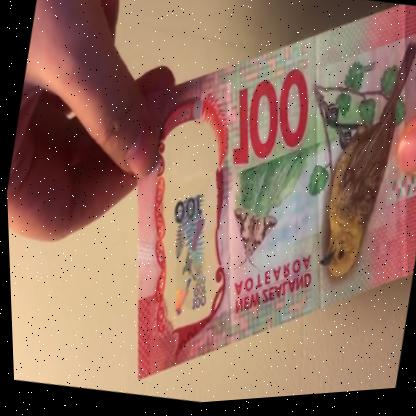100B: (147, 154, 236, 330)
